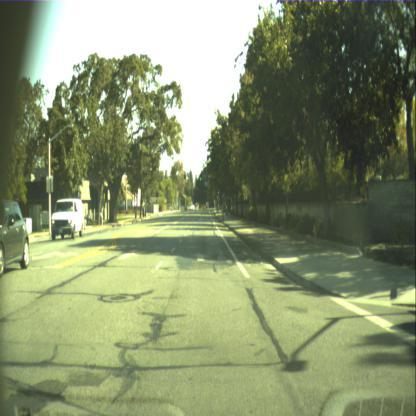Green: (198, 172, 202, 182), (216, 188, 220, 194)
Red: (184, 171, 186, 179), (156, 189, 158, 196)
